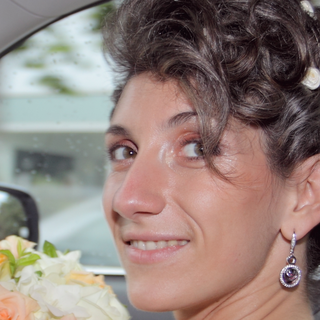eye: (103, 138, 145, 164)
